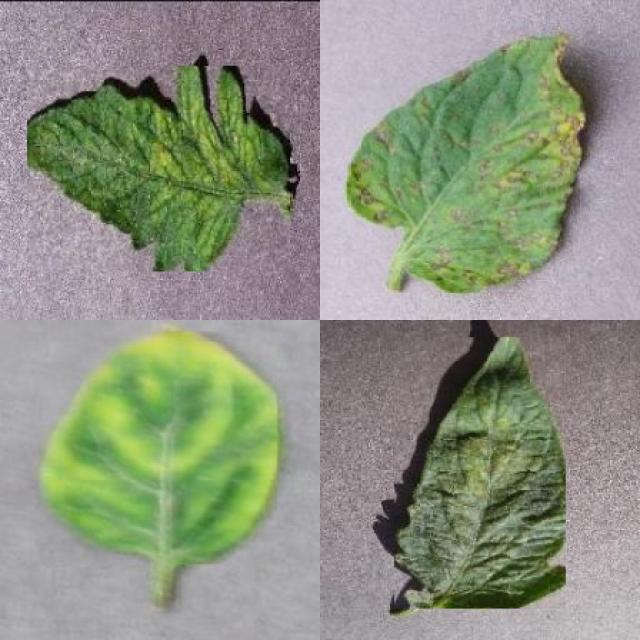Mosaic Virus: (27, 65, 290, 272)
Septoria: (348, 28, 585, 293)
Spider Mites: (395, 338, 565, 608)
Yellow Leaf Curl Virus: (39, 332, 277, 564)
